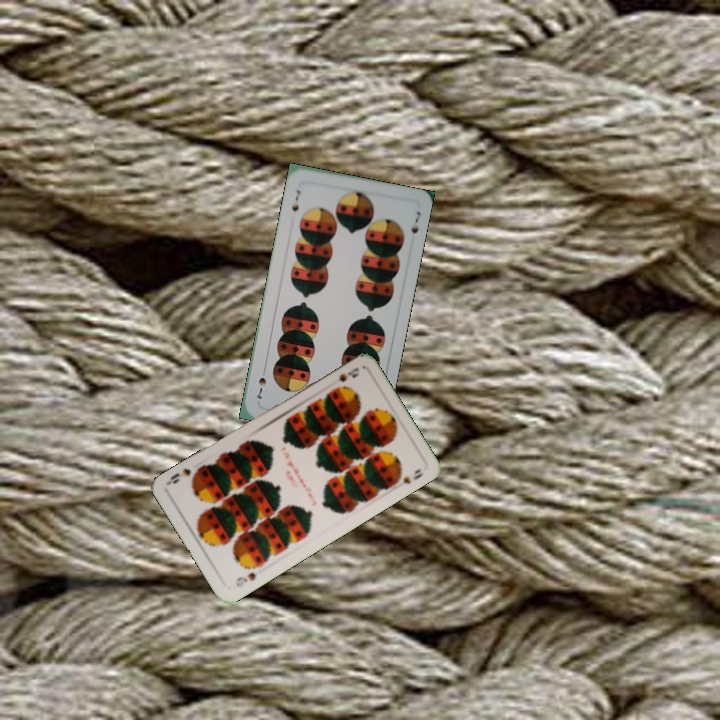S7: (287, 186, 303, 214)
S9: (231, 568, 259, 590), (333, 363, 361, 384)
